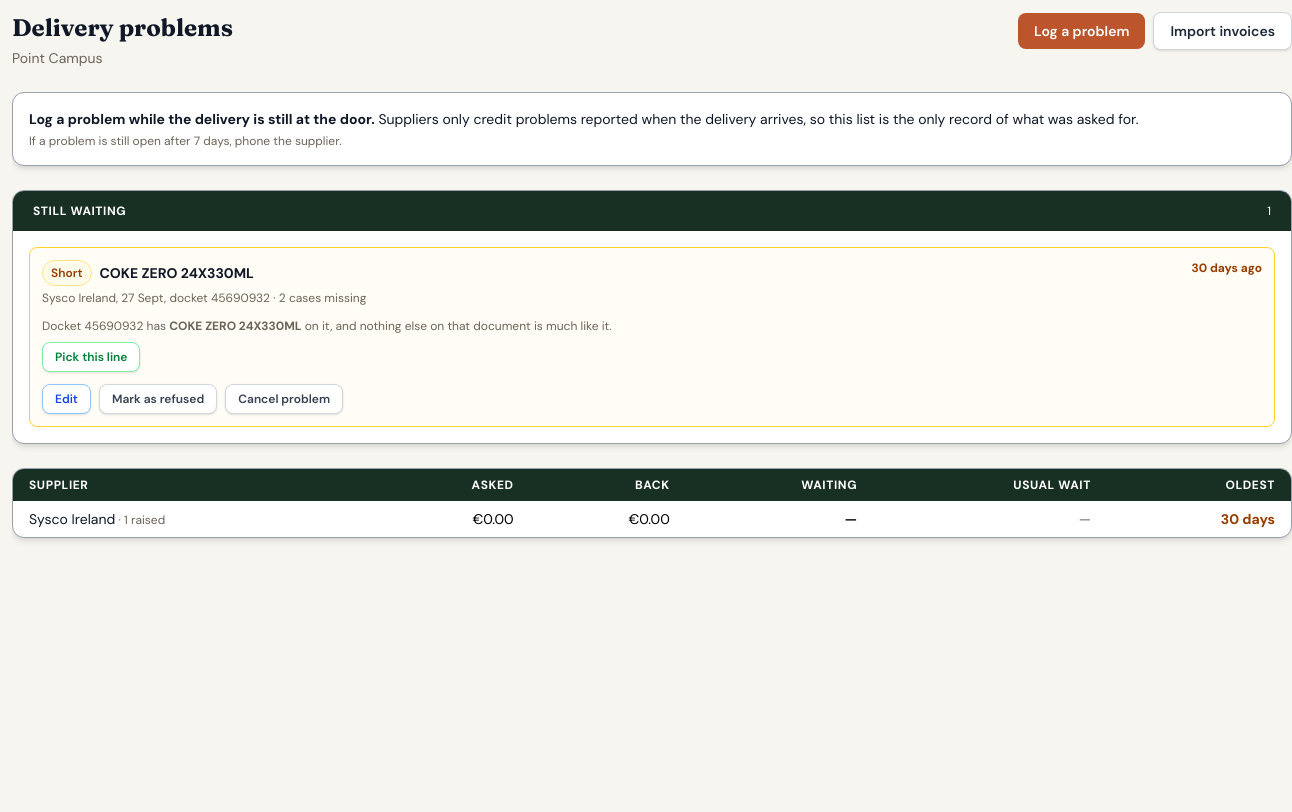
Scenario: asking before a claim goes on a line › refuses a claim for more than the line billed, and says what the line had
Step 1. Click the button "Pick this line" → (91,357), box [42,342,140,372]
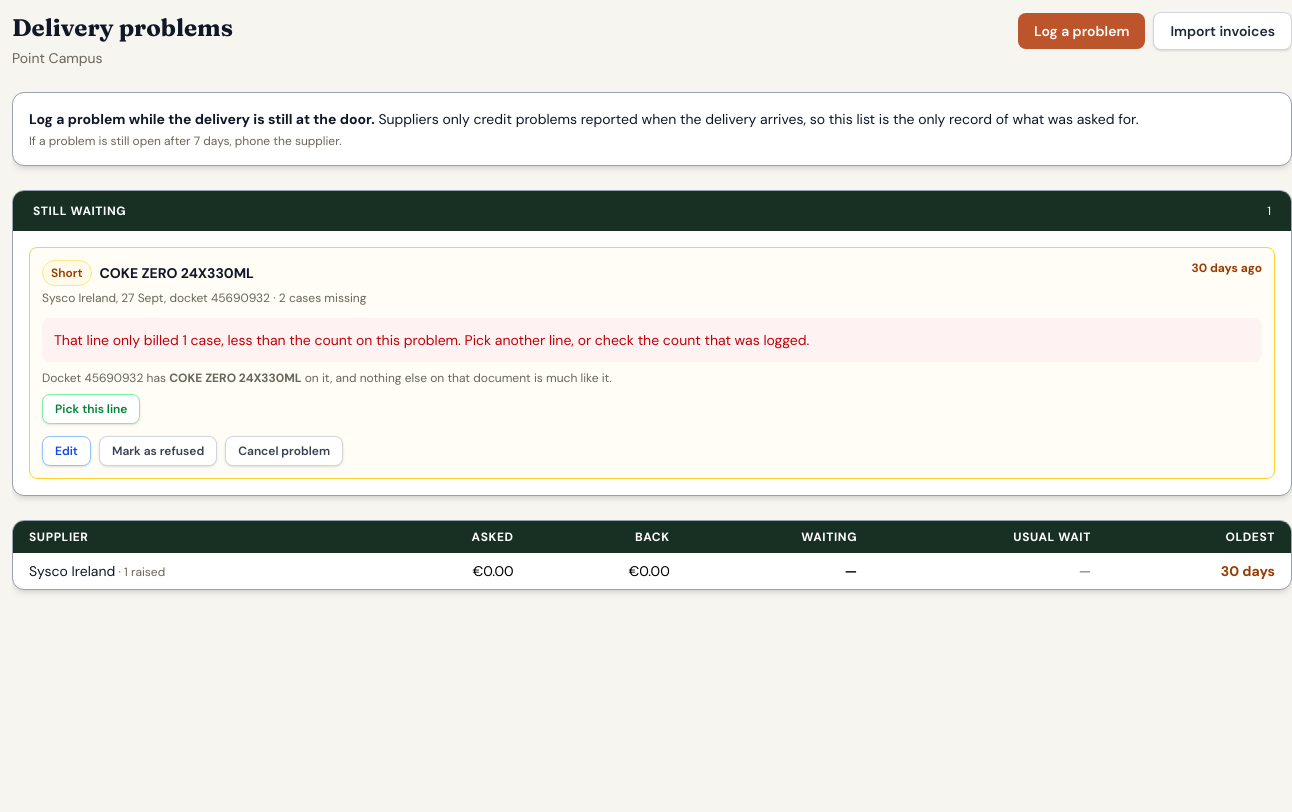
Expected: the text "That line only billed 1 case, less than the count on this problem." is shown, [54,331,809,349]
